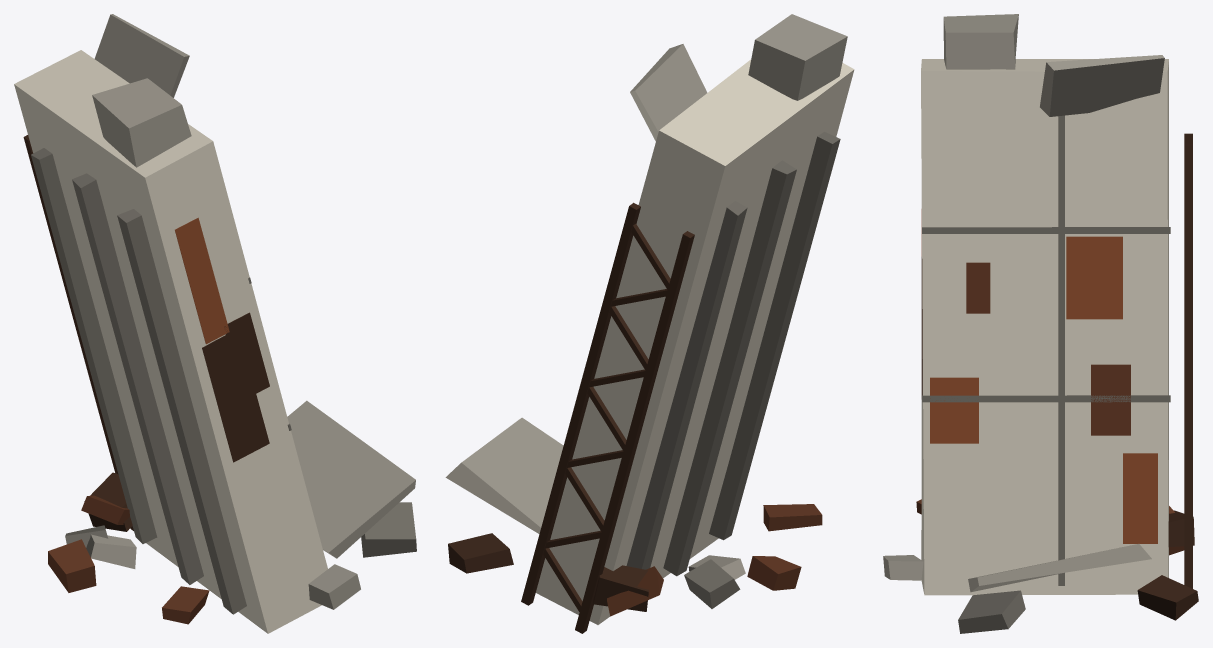
File: hull_tower.glb
The picture shows the model from 3 angles, left to right: view 1: azimuth 30°, elevation 25°; view 2: azimuth 150°, elevation 25°; view 3: azimuth 270°, elevation 25°; orthographic projection. The views are drawn at different scales.
Visible parts, largest first — view 1: hull_tower; view 2: hull_tower; view 3: hull_tower.
Boxes of the visible parts, x1,y1,x2,y2 form: hull_tower: (14, 14, 416, 633); hull_tower: (445, 14, 854, 633); hull_tower: (883, 14, 1198, 633).
Bounding box in the file's own units: 18.78 × 29.86 × 16.62.
